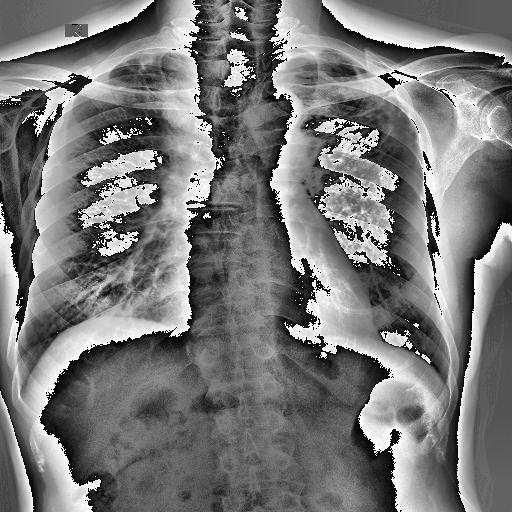11- Pleural thickening: (272, 45, 324, 71)
13- Pulmonary fibrosis: (310, 53, 416, 150), (315, 74, 414, 157), (111, 50, 186, 106), (116, 51, 166, 122), (351, 94, 394, 136), (122, 58, 152, 96)
